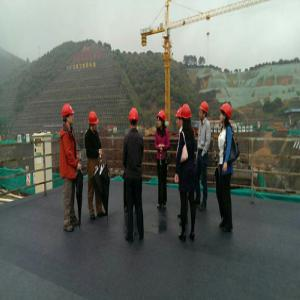red: (61, 103, 75, 128), (181, 101, 193, 125), (220, 103, 233, 123), (129, 107, 140, 130), (88, 110, 99, 132), (157, 110, 167, 130), (200, 101, 209, 120), (177, 106, 184, 128)
